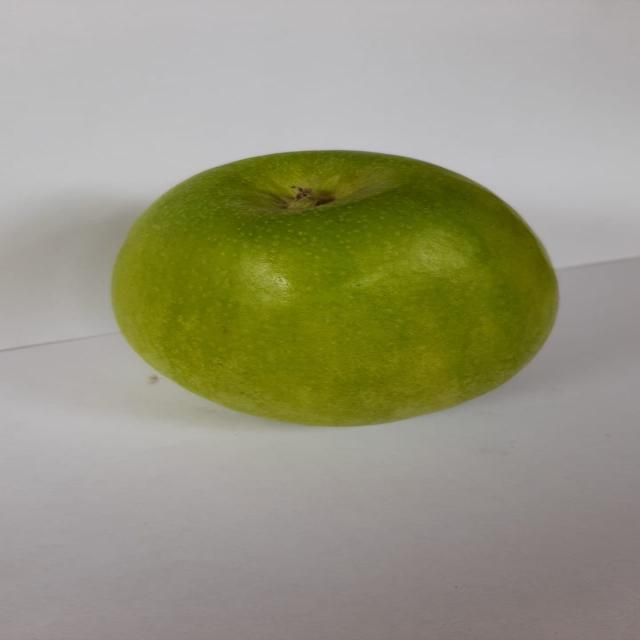50-_ripeness: (76, 140, 572, 432)
